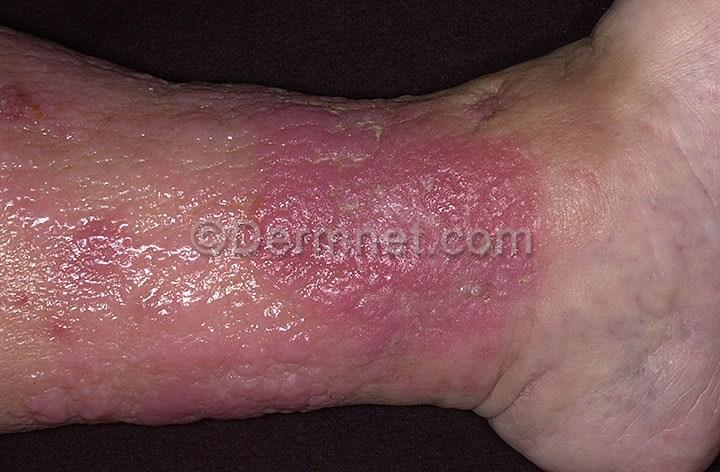Eczema: (129, 261, 291, 418), (5, 249, 132, 425), (123, 157, 292, 274), (0, 137, 122, 245), (252, 307, 384, 406), (460, 129, 558, 252), (289, 90, 385, 205), (0, 37, 95, 136), (392, 94, 491, 188), (91, 61, 192, 153), (290, 206, 380, 308), (461, 237, 543, 347), (385, 176, 465, 284), (390, 274, 473, 377), (192, 93, 293, 167)
